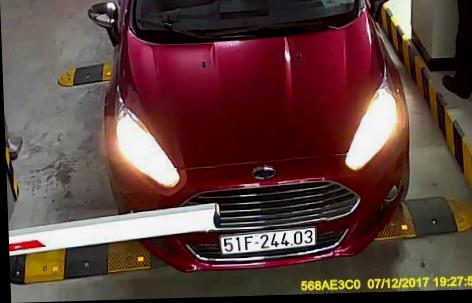License_Plate: (215, 223, 330, 255)
